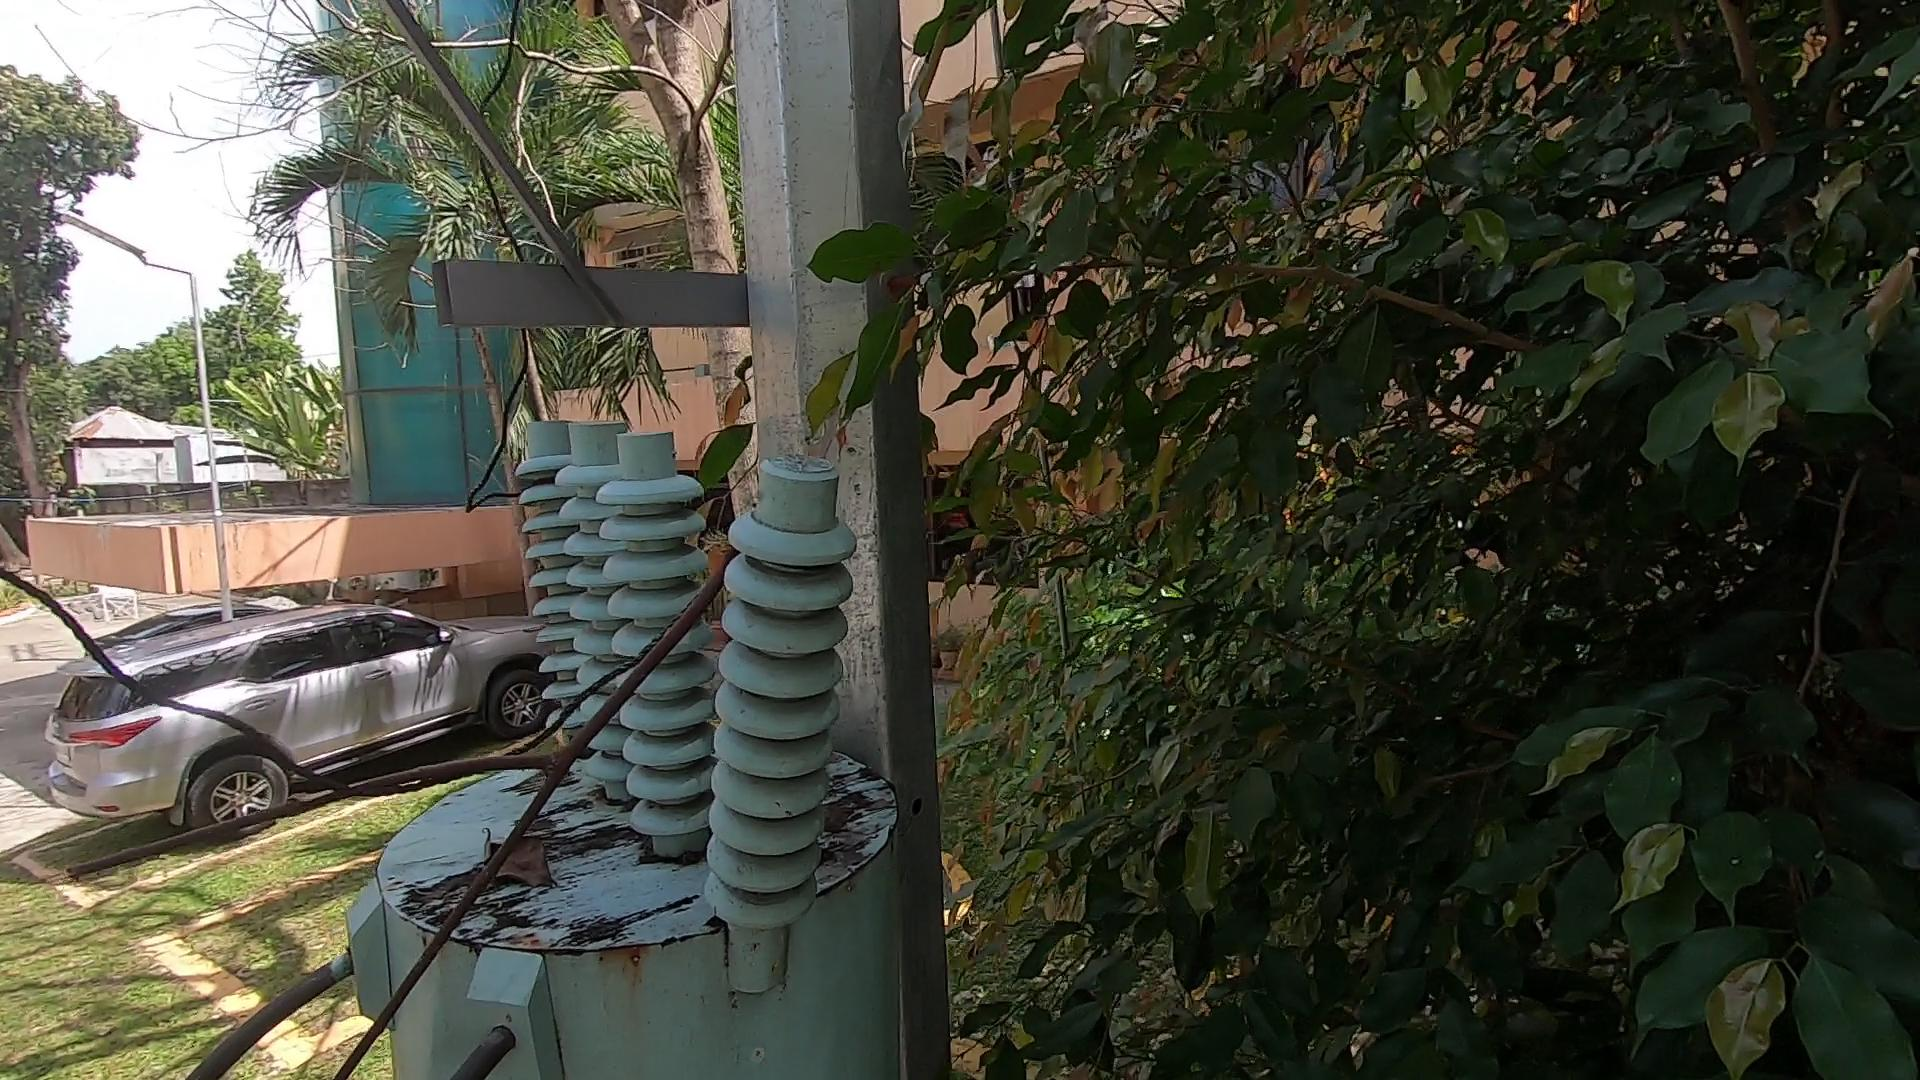leaf: (460, 816, 576, 907)
tree branch: (44, 543, 752, 1080)
